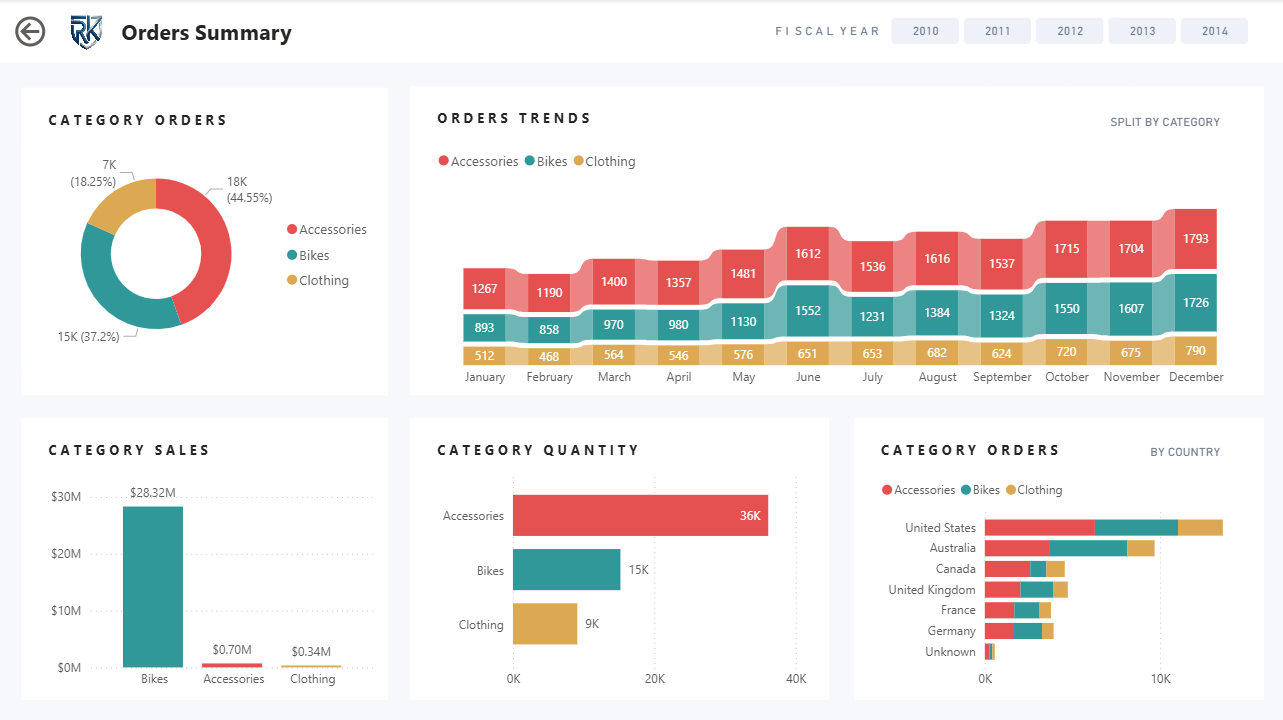

What the dashboard file says about the page in this screenshot:
{"tool":"powerbi","page":{"name":"Orders Summary","canvas":[1280,720],"ordinal":3},"visuals":[{"type":"shape","box":[0,0,1280,63.4],"z":0},{"type":"textbox","box":[409.3,87.1,849.6,307.3],"z":0,"group":"g2"},{"type":"textbox","box":[850.9,416.7,408,281.1],"z":0,"group":"g3"},{"type":"actionButton","box":[11.2,12.4,41.1,39.8],"z":1000},{"type":"textbox","box":[116.9,12.4,266.2,42.3],"z":2000},{"type":"advancedSlicerVisual","fields":{"Values":["dim_date.Year"]},"box":[883.2,13.7,369.5,36.1],"z":2000,"group":"g1"},{"type":"group","id":"g1","title":"Group 3","box":[767.5,13.7,485.1,36.1],"z":3000},{"type":"textbox","box":[767.5,16.2,115.7,33.6],"z":3000,"group":"g1"},{"type":"ribbonChart","fields":{"Category":["dim_date.Month Name"],"Y":["_measure.Total Orders"],"Series":["dim_products.category"]},"box":[431.7,140.6,812.3,253.8],"z":4000,"group":"g2"},{"type":"textbox","box":[22.4,416.7,364.5,281.1],"z":4000},{"type":"group","id":"g2","title":"Group 1","box":[409.3,87.1,849.6,307.3],"z":5000},{"type":"textbox","box":[1140.7,435.4,116.9,33.6],"z":5000,"group":"g3"},{"type":"textbox","box":[1100.9,107,143.1,33.6],"z":5001,"group":"g2"},{"type":"textbox","box":[409.3,416.7,416.7,281.1],"z":6000},{"type":"textbox","box":[22.4,88.3,364.5,306],"z":7000,"group":"g4"},{"type":"clusteredColumnChart","fields":{"Y":["_measure.Total Sales"],"Category":["dim_products.category"]},"box":[46,469,334.6,226.4],"z":7000},{"type":"clusteredBarChart","fields":{"Category":["dim_products.category"],"Y":["_measure.Total Quantity Sold"]},"box":[431.7,459,376.9,236.4],"z":8000},{"type":"group","id":"g3","title":"Group 2","box":[850.9,416.7,408,281.1],"z":9000},{"type":"group","id":"g4","title":"Group 4","box":[22.4,88.3,364.5,306],"z":10000},{"type":"image","box":[69.7,12.4,34.8,41.1],"z":11000},{"type":"donutChart","fields":{"Category":["dim_products.category"],"Y":["_measure.Total Orders"]},"box":[22.4,140.5,358.3,226.4],"z":12000,"group":"g4"},{"type":"barChart","fields":{"Category":["dim_customers.country"],"Y":["_measure.Total Orders"],"Series":["dim_products.category"]},"box":[873.3,468.9,384.4,226.4],"z":13000,"group":"g3"}]}

Visuals, with their boxes in screenshot pixels (x1, y1, x2, y2), scaled from the page's 1280x720 canvas onto the 1283x720 screenshot:
shape: 0 0 1282 63
textbox: 410 87 1262 394
textbox: 853 417 1262 698
actionButton: 11 12 52 52
textbox: 117 12 384 55
advancedSlicerVisual - dim_date.Year: 885 14 1256 50
"Group 3" group: 769 14 1256 50
textbox: 769 16 885 50
ribbonChart - dim_date.Month Name x _measure.Total Orders: 433 141 1247 394
textbox: 22 417 388 698
"Group 1" group: 410 87 1262 394
textbox: 1143 435 1261 469
textbox: 1103 107 1247 141
textbox: 410 417 828 698
textbox: 22 88 388 394
clusteredColumnChart - _measure.Total Sales x dim_products.category: 46 469 381 695
clusteredBarChart - dim_products.category x _measure.Total Quantity Sold: 433 459 810 695
"Group 2" group: 853 417 1262 698
"Group 4" group: 22 88 388 394
image: 70 12 105 54
donutChart - dim_products.category x _measure.Total Orders: 22 140 382 367
barChart - dim_customers.country x _measure.Total Orders: 875 469 1261 695
